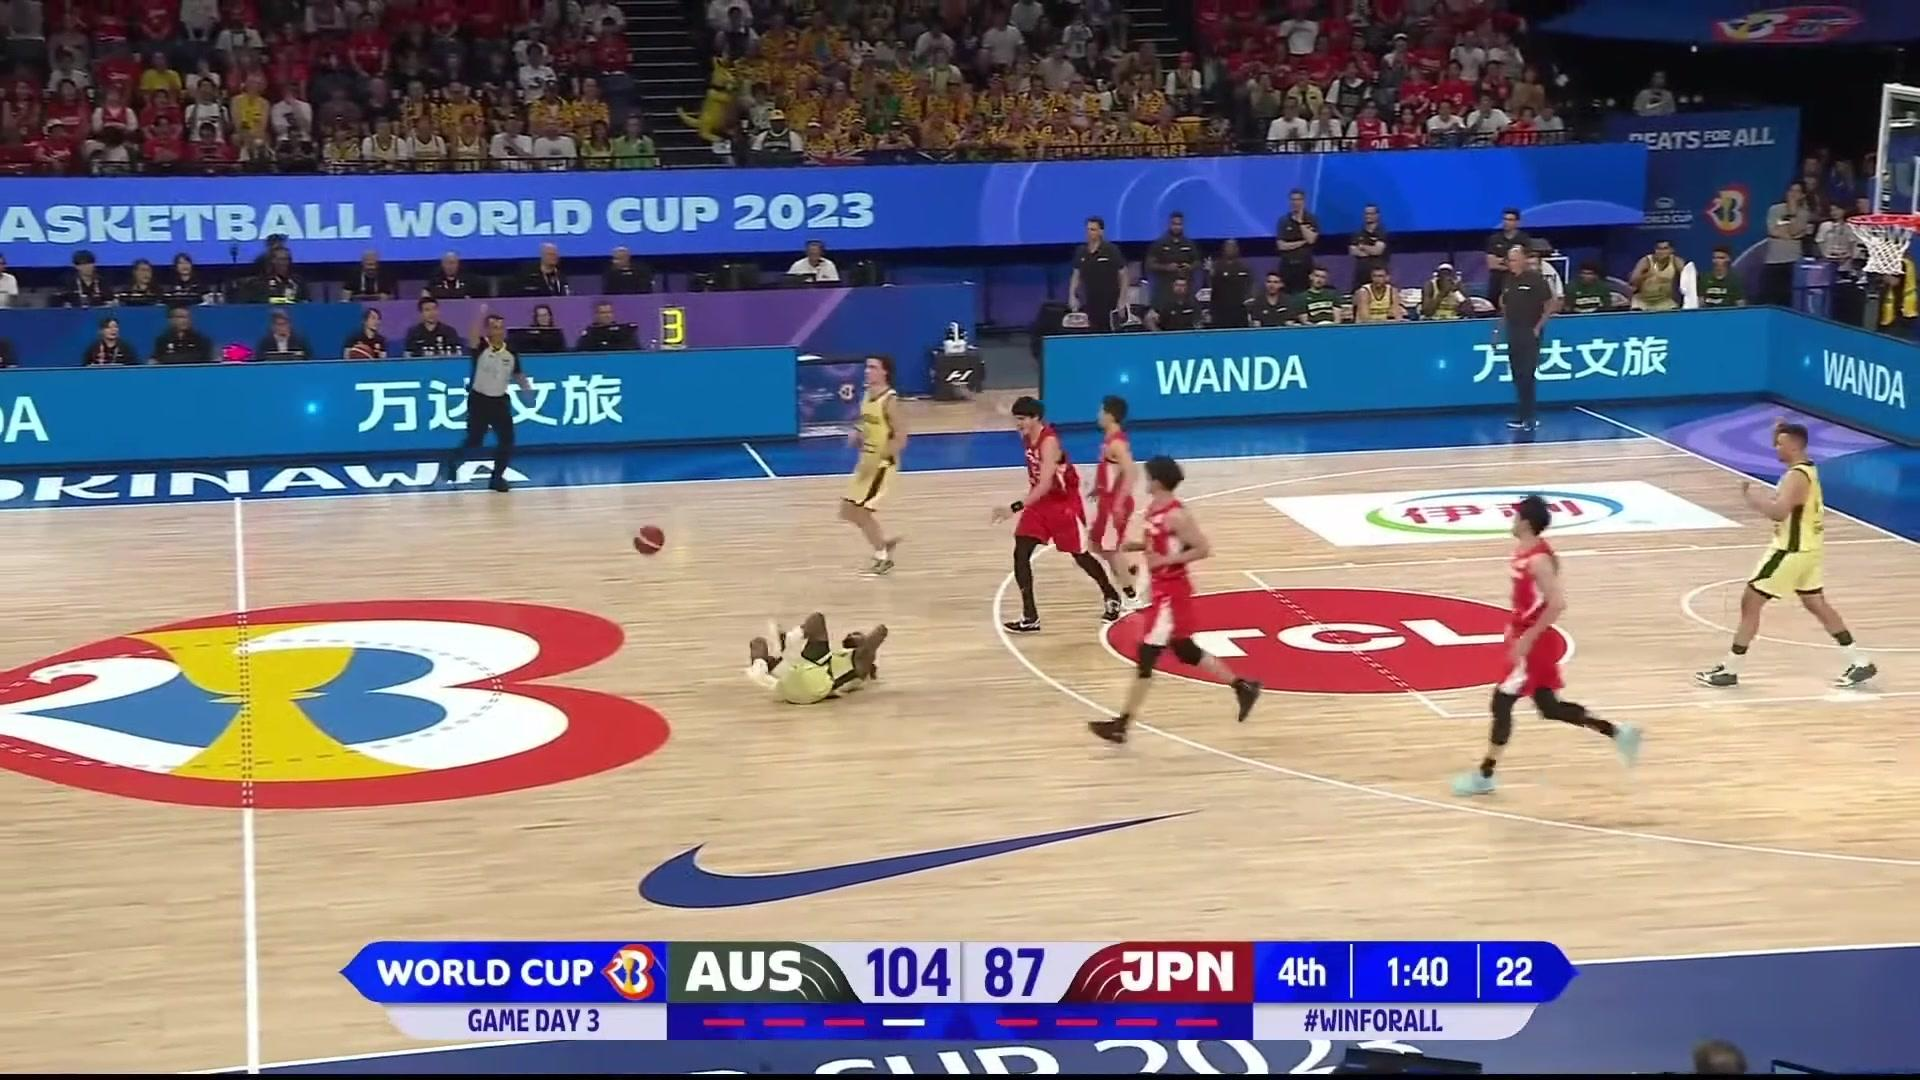foul: (690, 516, 1104, 731)
